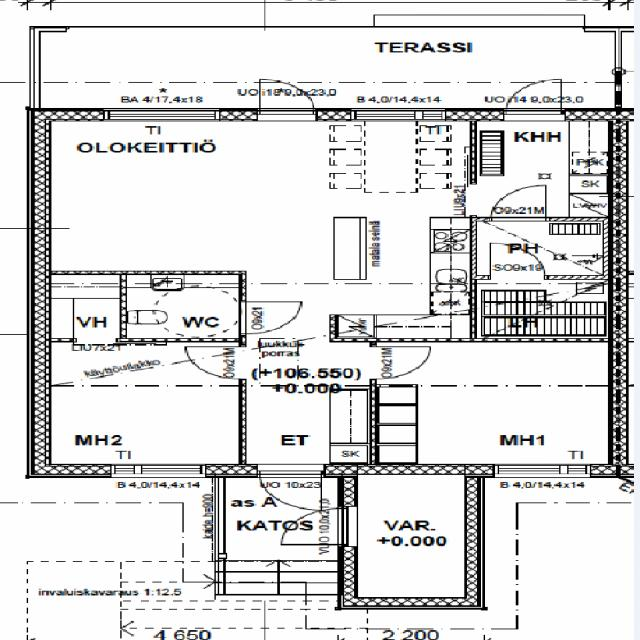door: (260, 463, 322, 514), (276, 508, 358, 544), (505, 74, 561, 121), (259, 74, 315, 121), (238, 301, 302, 334), (491, 184, 546, 221), (369, 346, 432, 378), (184, 347, 247, 379), (490, 243, 544, 280)
